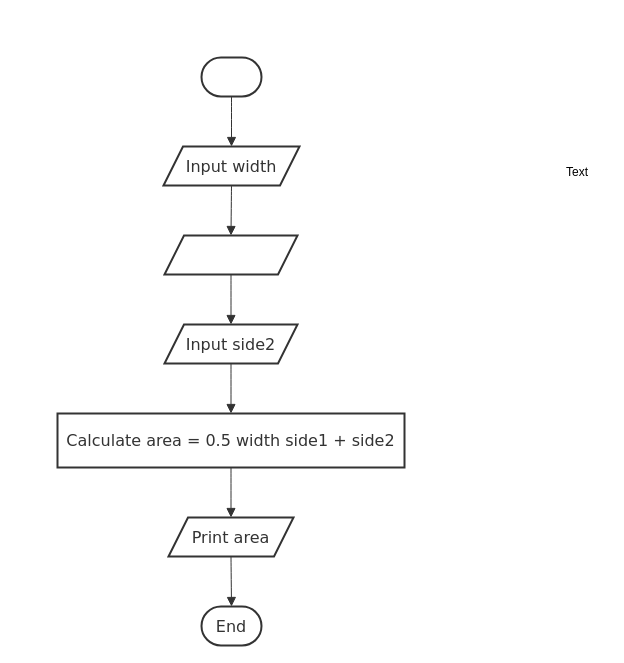
Some shapes in this 624 by 663 pixel diagram are drawn without their labels. The shapes that lost their labels are listed below. From the top down, each one's box as (x1, y1, x2, y2) in pixels, then its label:
(200, 56, 262, 97): Start
(163, 234, 298, 275): Input side1
